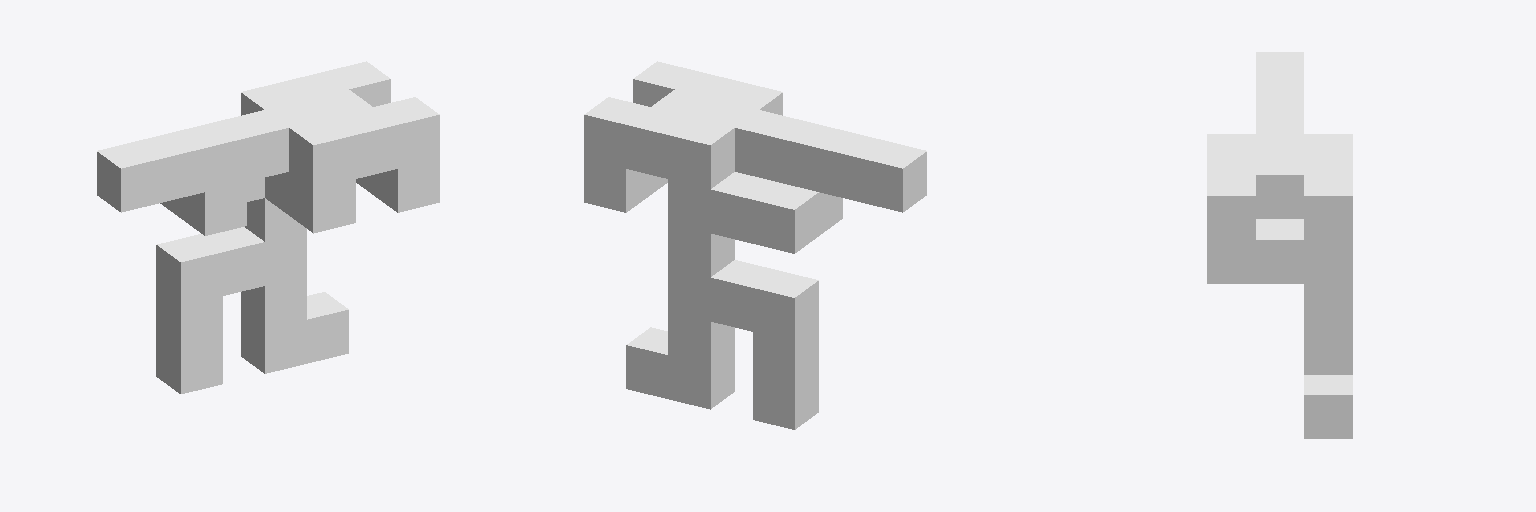
File: USPanzerShreck.obj
3 views of the same model, side by side, from view 1: azimuth 30°, elevation 25°; view 2: azimuth 150°, elevation 25°; view 3: azimuth 270°, elevation 25° (orthographic).
Bounding box in the file's own units: 7 × 6 × 3.